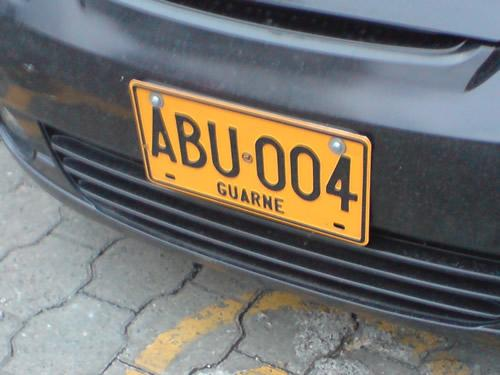placas: (128, 78, 372, 249)
